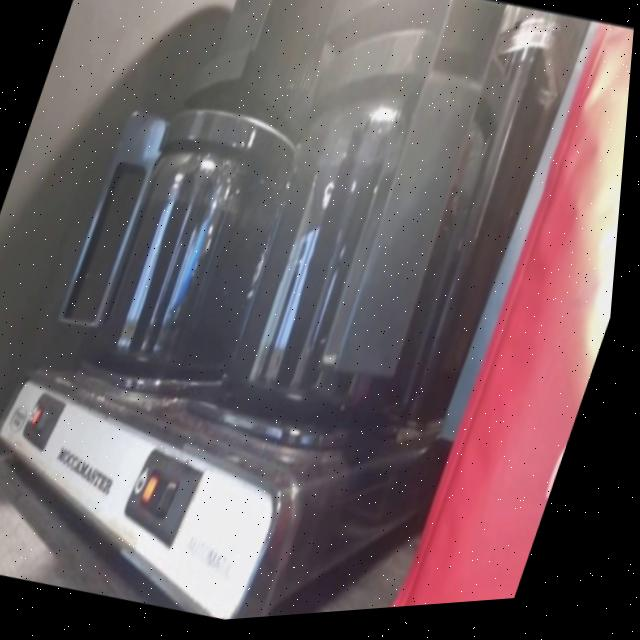coffee: (225, 124, 488, 439), (96, 161, 293, 387)
